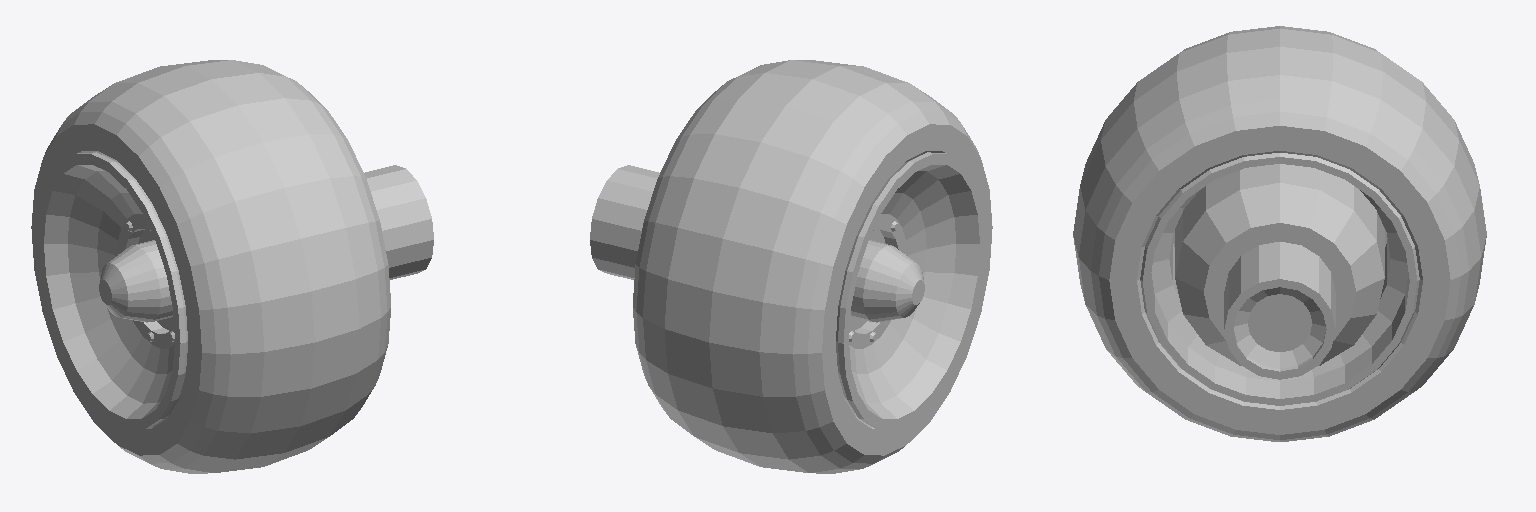
File: tire1_back2.obj
The picture shows the model from 3 angles: view 1: azimuth 30°, elevation 25°; view 2: azimuth 150°, elevation 25°; view 3: azimuth 270°, elevation 25°; orthographic projection.
Parts seen in each view (by area): view 1: tire1_back2; view 2: tire1_back2; view 3: tire1_back2.
Part boxes in pixels (x1,y1,x2,y2): tire1_back2: (31, 60, 433, 473); tire1_back2: (590, 60, 992, 473); tire1_back2: (1073, 26, 1486, 441).
Bounding box in the file's own units: 0.7498 × 0.8933 × 0.8933.